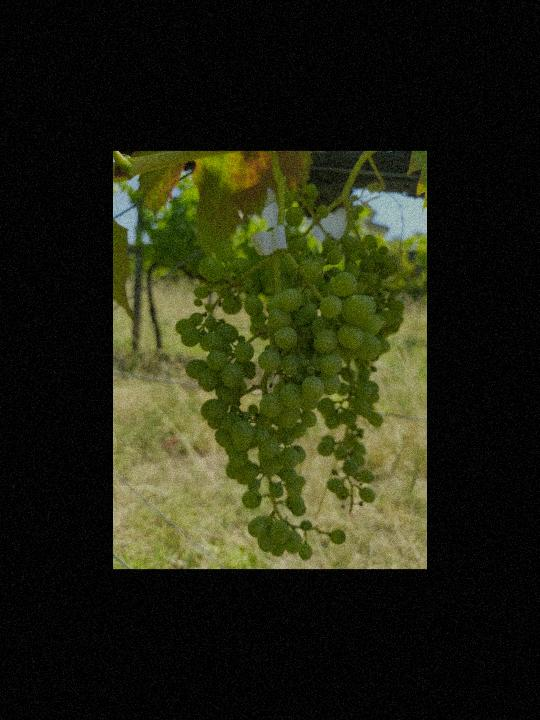grape: (171, 239, 383, 562)
